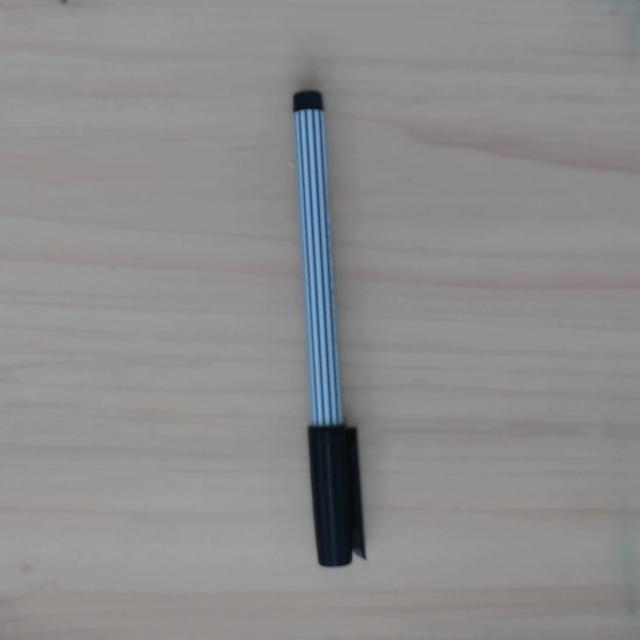Pulpen-Garis-Hitam: (286, 88, 366, 568)
